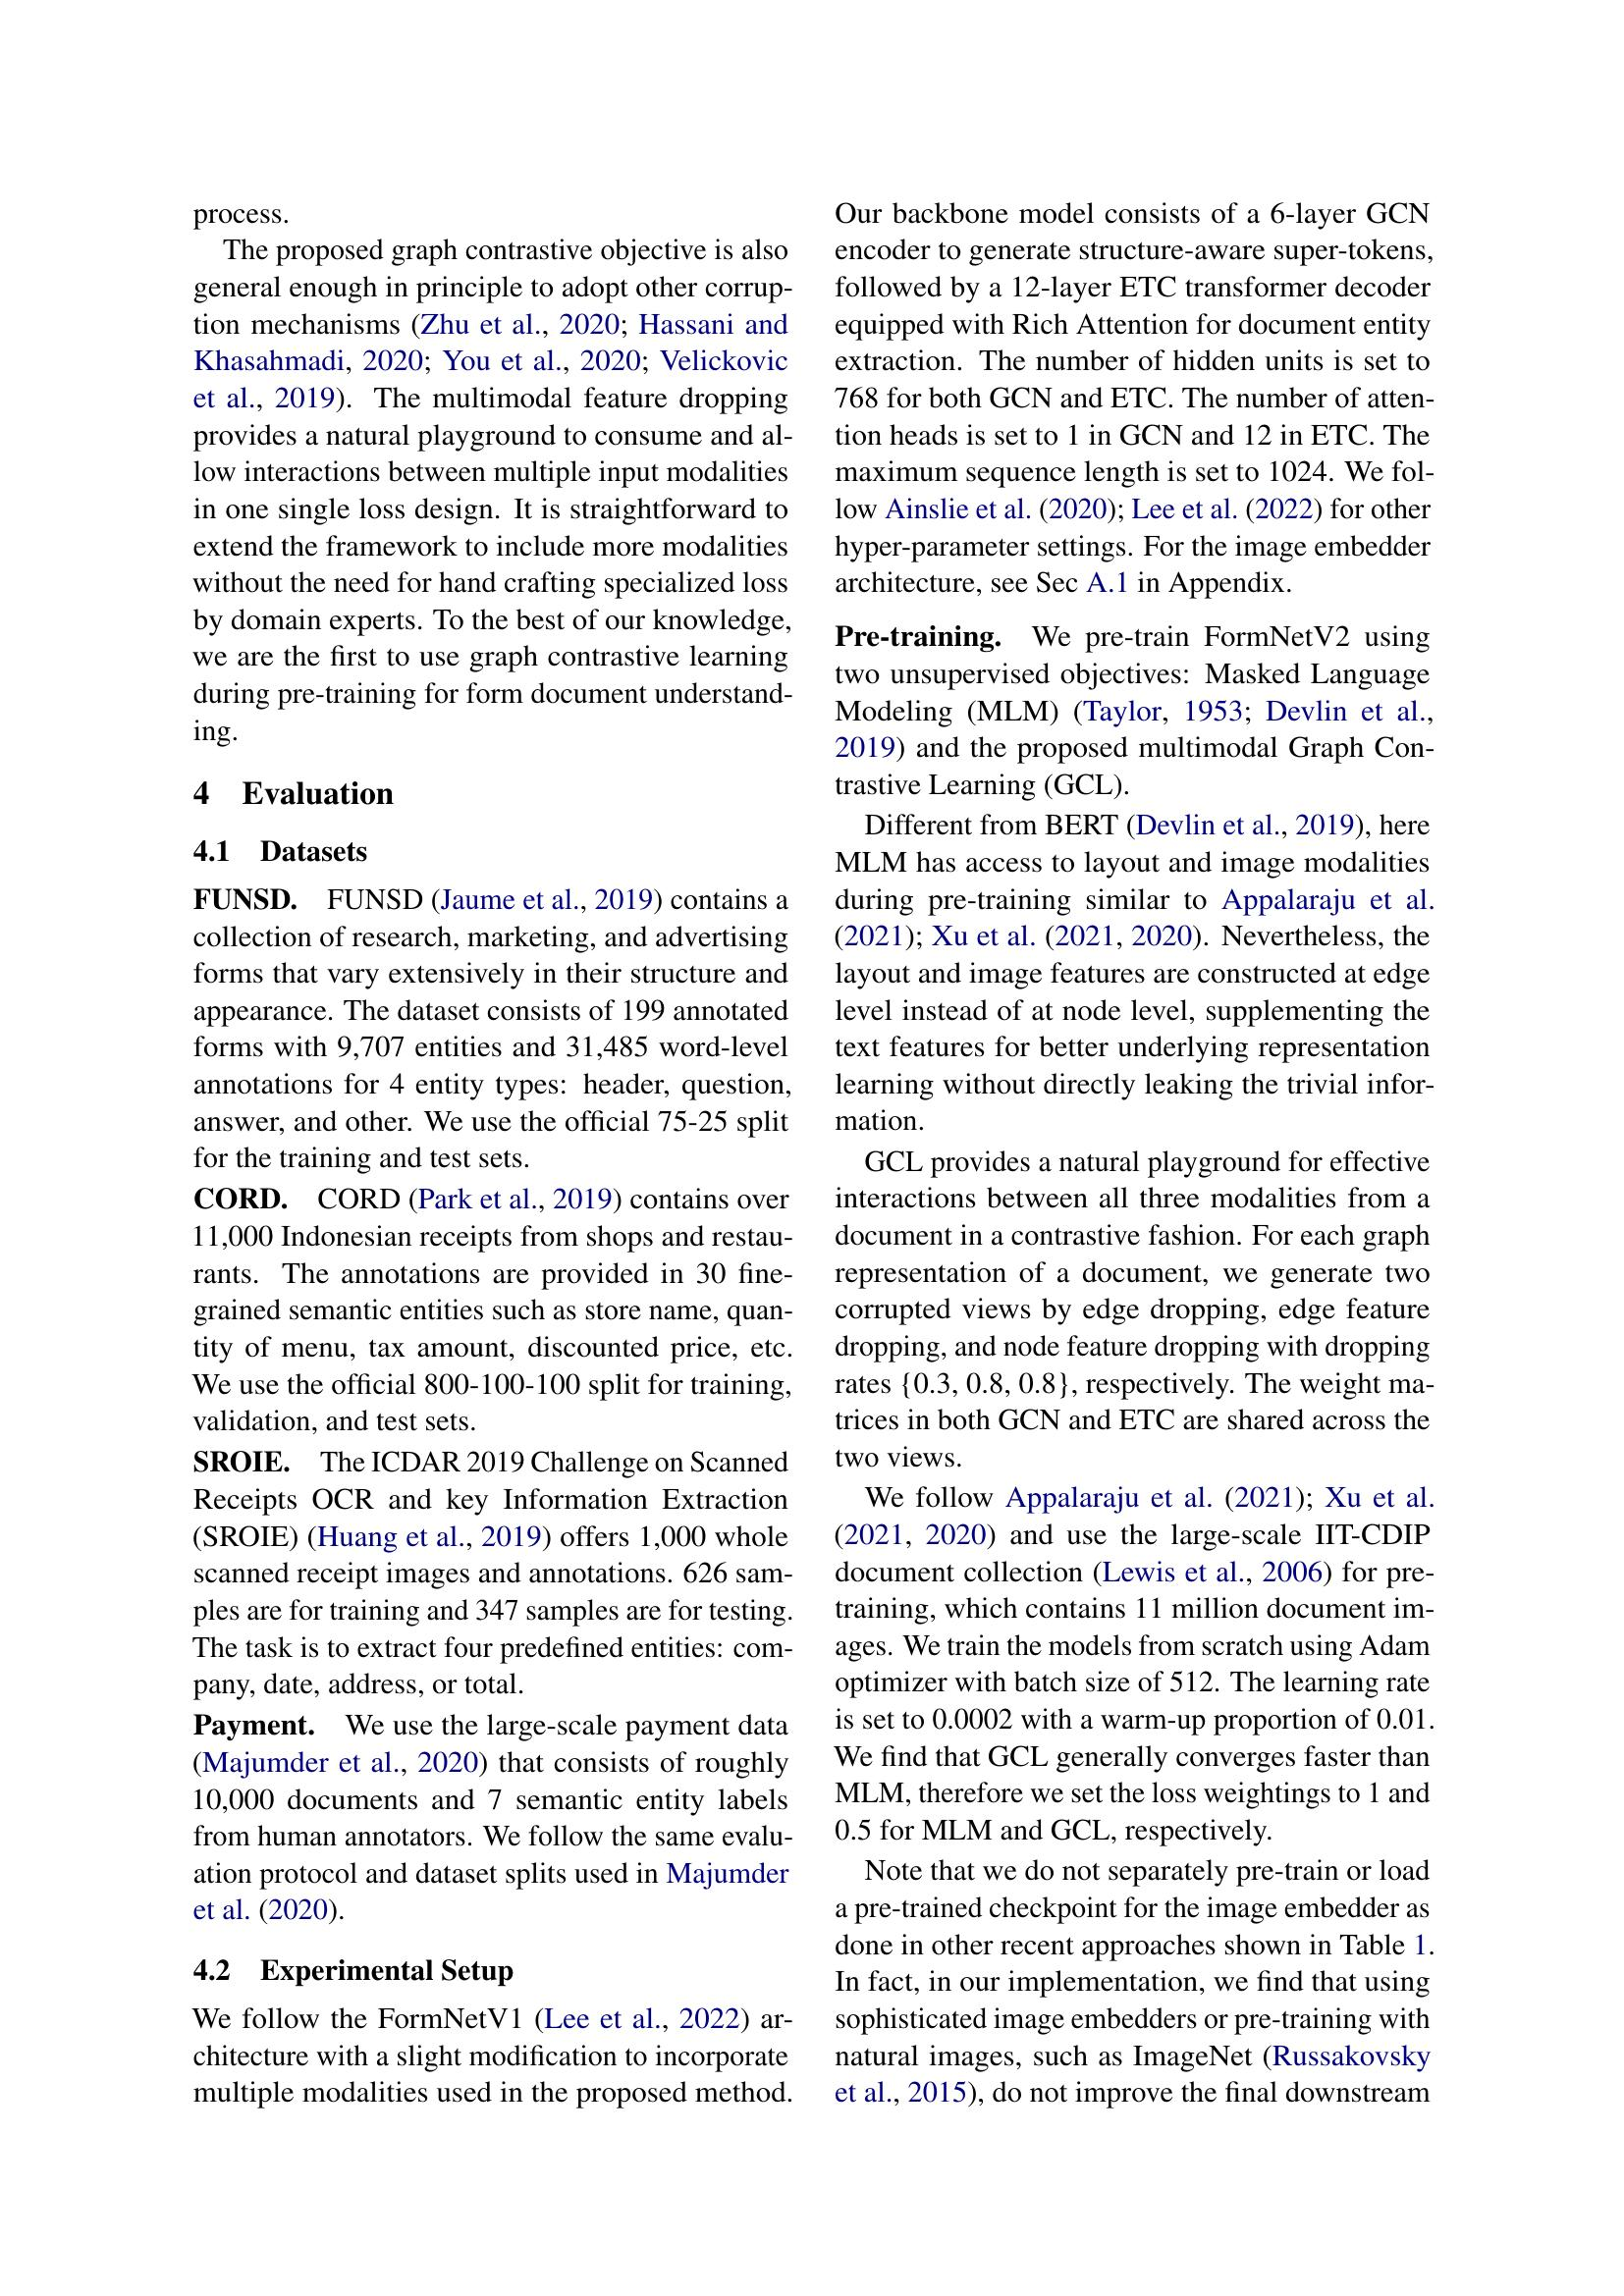text: (823, 1138, 1441, 2122), (819, 191, 1441, 1135), (178, 1444, 808, 2124), (176, 768, 810, 1439), (179, 186, 801, 755)
